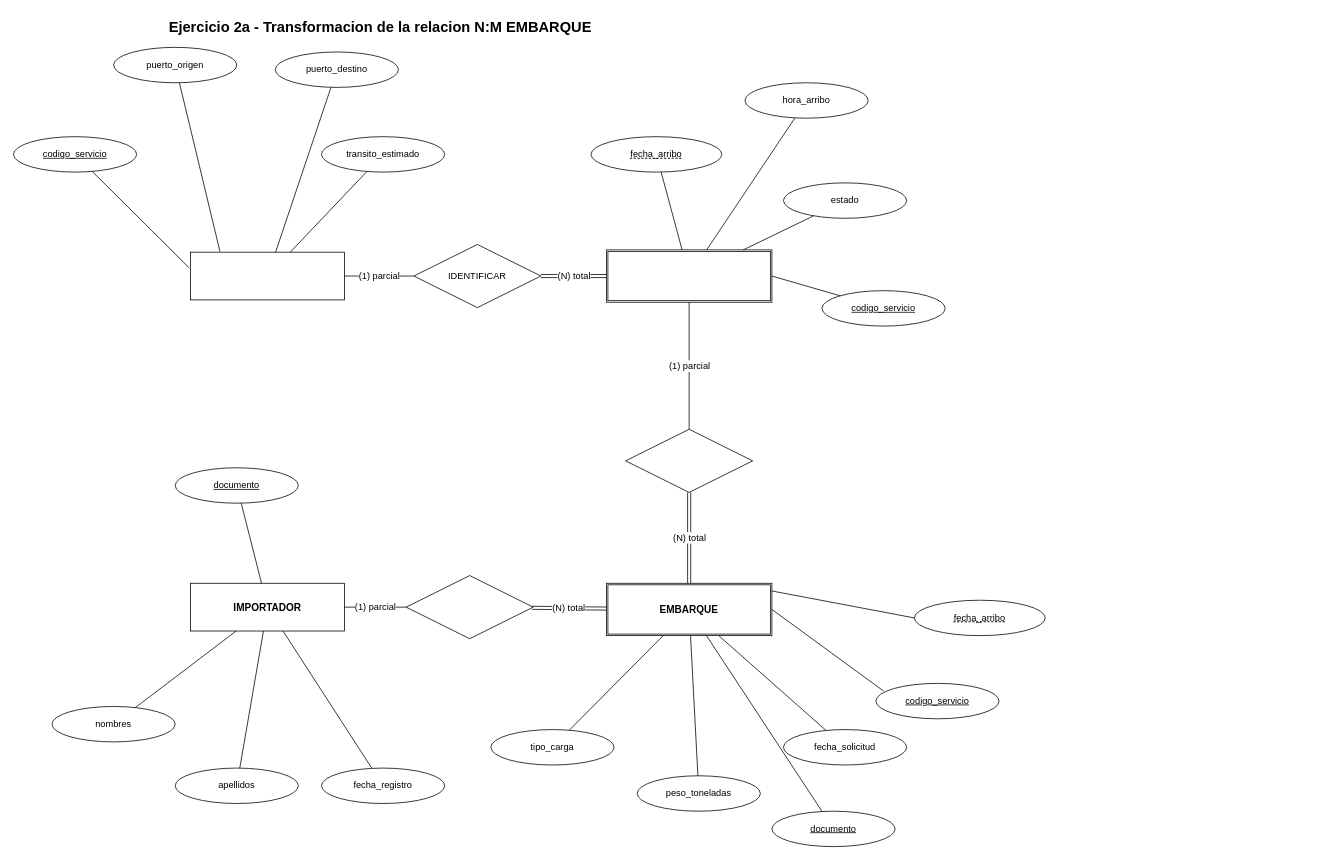
The diagram is 1336 pixels wide and 860 high, and some of its shapes have lost their labels. The centre of each missing label's shape, as x and y in pixels:
"PERTENECER" goes at (x=689, y=460).
"REALIZAR" goes at (x=469, y=607).
"RECALADA" goes at (x=689, y=275).
"SERVICIO" goes at (x=267, y=275).
